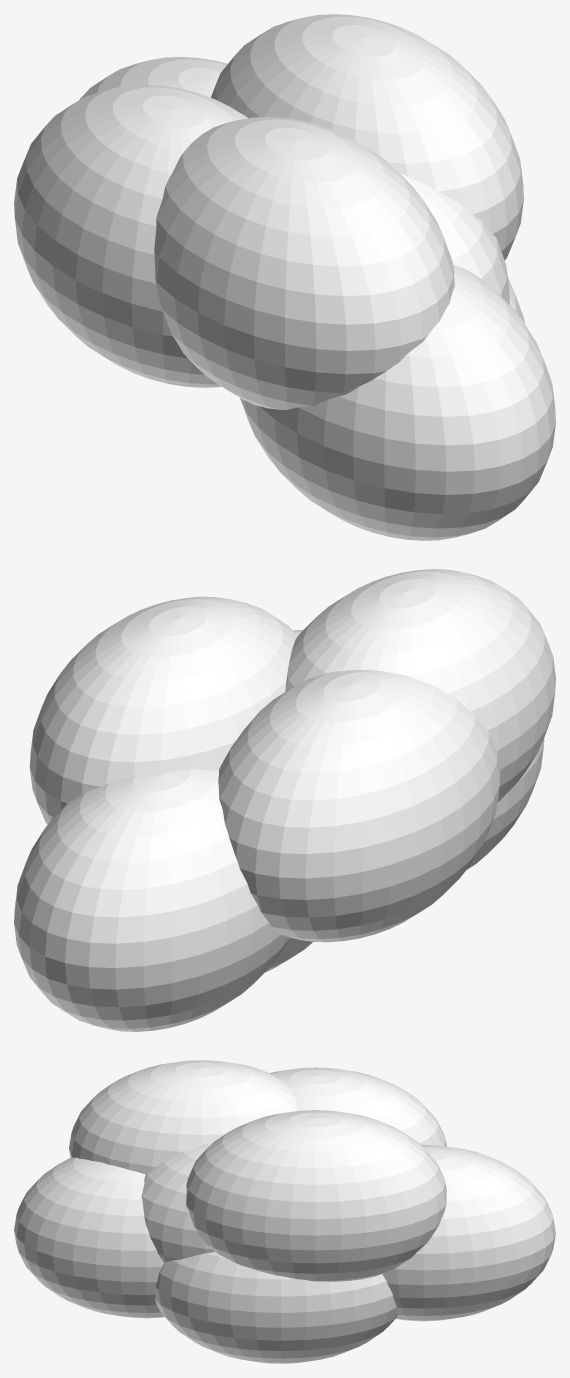
File: cloud.obj
The picture shows the model from 3 angles, top to bottom: view 1: azimuth 30°, elevation 25°; view 2: azimuth 150°, elevation 25°; view 3: azimuth 270°, elevation 25°; orthographic projection. The views are drawn at different scales.
Parts seen in each view (by area): view 1: 球體; view 2: 球體; view 3: 球體.
Part boxes in pixels (x1,y1,x2,y2): 球體: (14,14,555,540); 球體: (14,569,555,1031); 球體: (14,1060,555,1363).
Bounding box in the file's own units: 3.56 × 3.07 × 6.14.
Materials: 2 (2 with a texture image).
